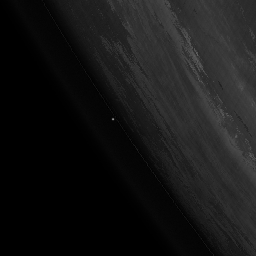Target: (110, 116, 116, 122)
